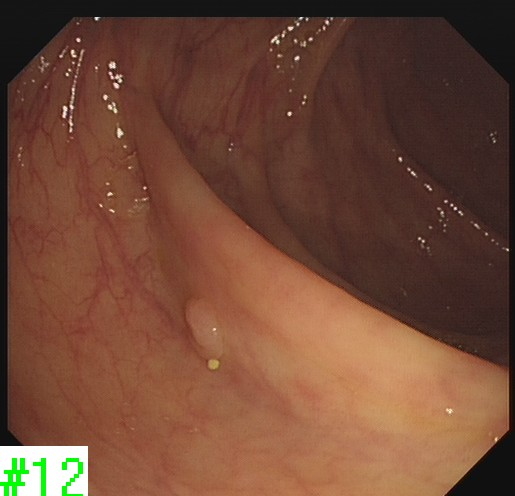adenoma: (180, 293, 228, 371)
